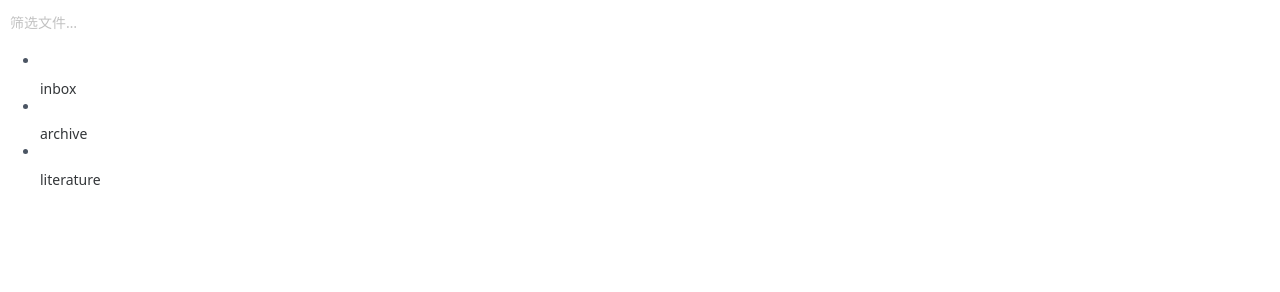
it: FileTree › renders top-level folders and expands a folder from its row
Expected: the text "redis-note" is not shown
What coordinates should you click on to do the following:
click the element with class "row-line" showing "inbox"
I would click on:
 (58, 89)
Its box is x1=40 y1=82 x2=76 y2=96.
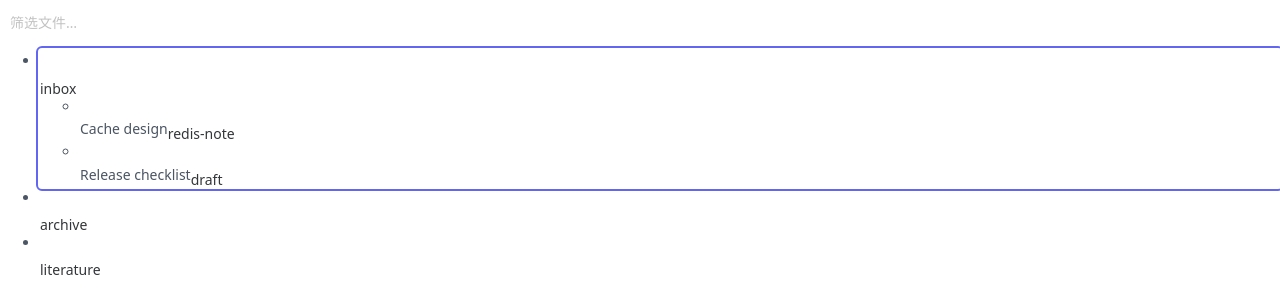
Now the text "redis-note" is shown, box x1=168 y1=127 x2=235 y2=141
